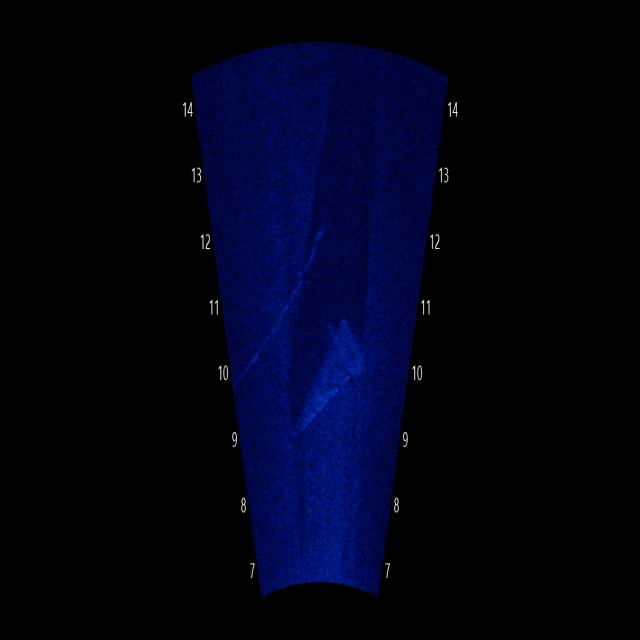triangle: (280, 306, 364, 462)
